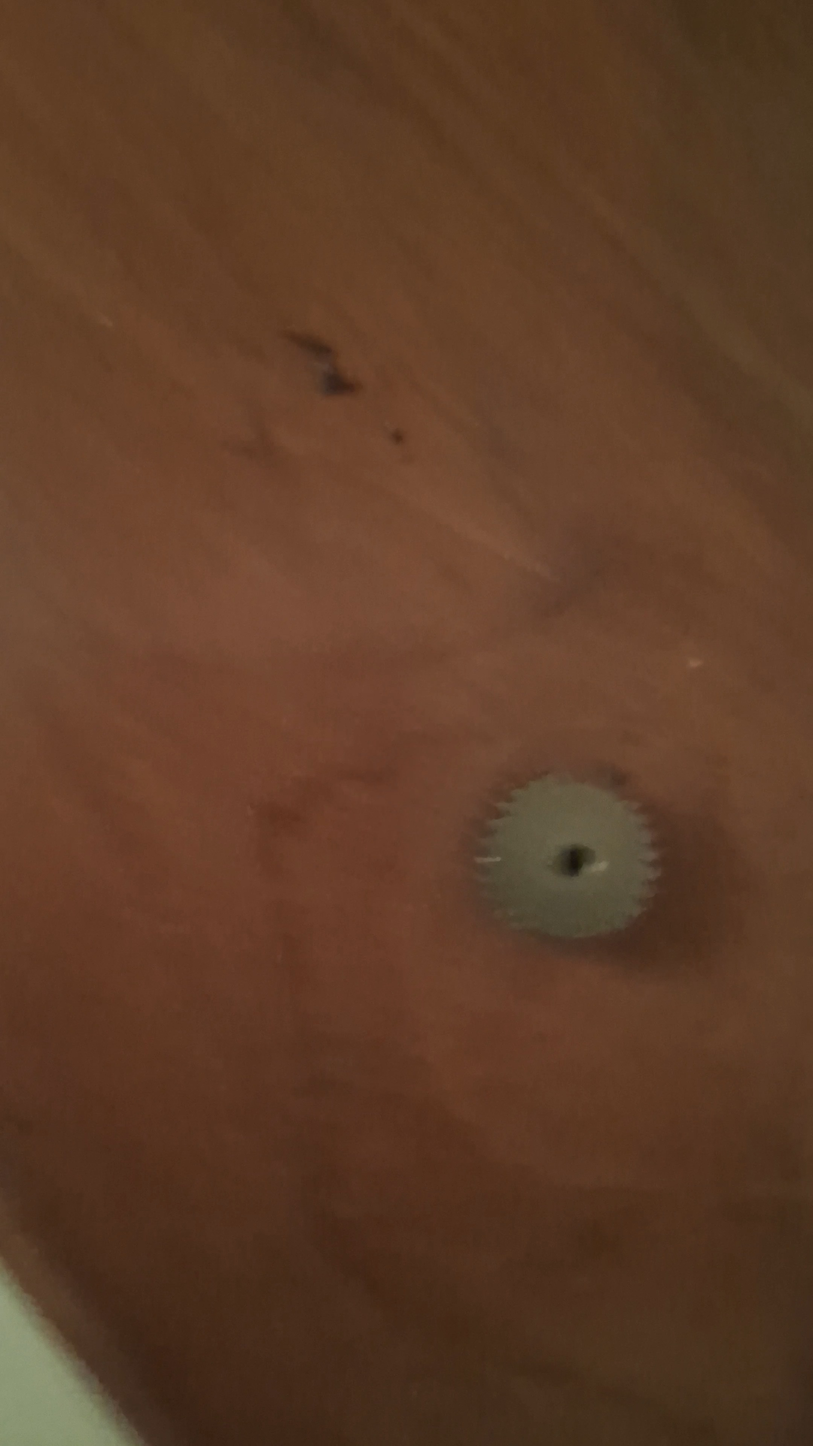spur gear: (477, 775, 658, 938)
